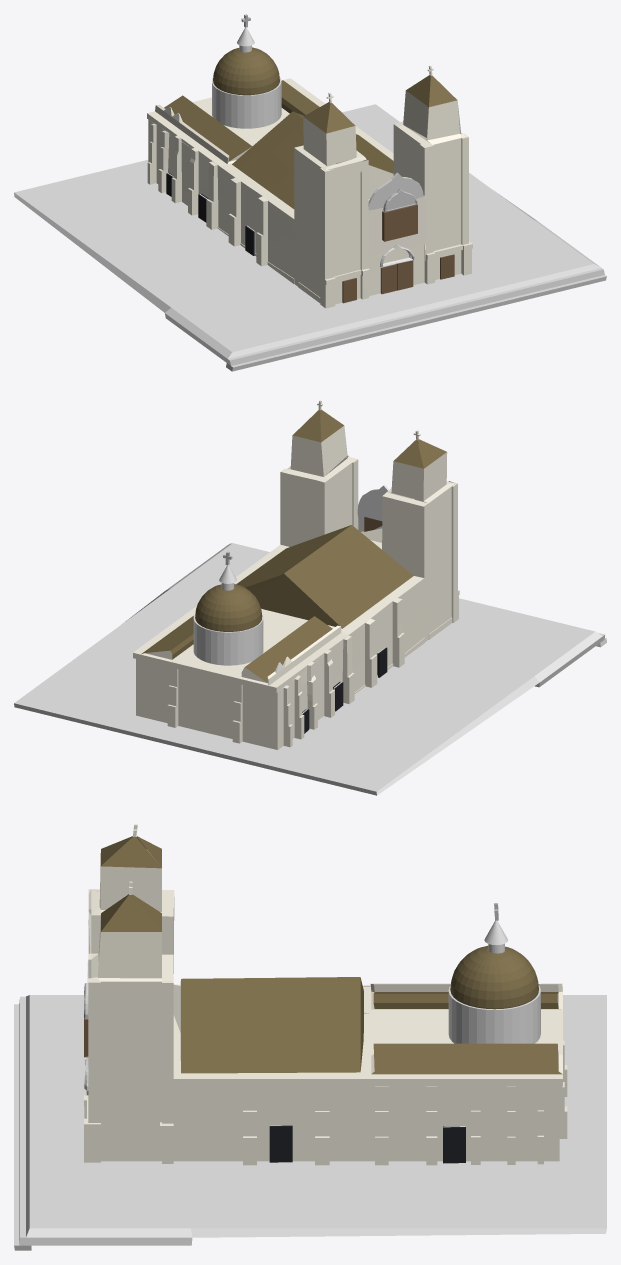
Rendered from LaCatedralFinal2.fbx.
3 views of the same model, one above another, from view 1: azimuth 30°, elevation 25°; view 2: azimuth 150°, elevation 25°; view 3: azimuth 270°, elevation 25° (orthographic). The views are drawn at different scales.
Visible parts, largest first — view 1: Plane; view 2: Plane; view 3: Plane.
Part boxes in pixels (x1=…): Plane: x1=14, y1=14, x2=606, y2=371; Plane: x1=14, y1=400, x2=606, y2=795; Plane: x1=14, y1=824, x2=606, y2=1250.
Bounding box in the file's own units: 207 × 115 × 215.
